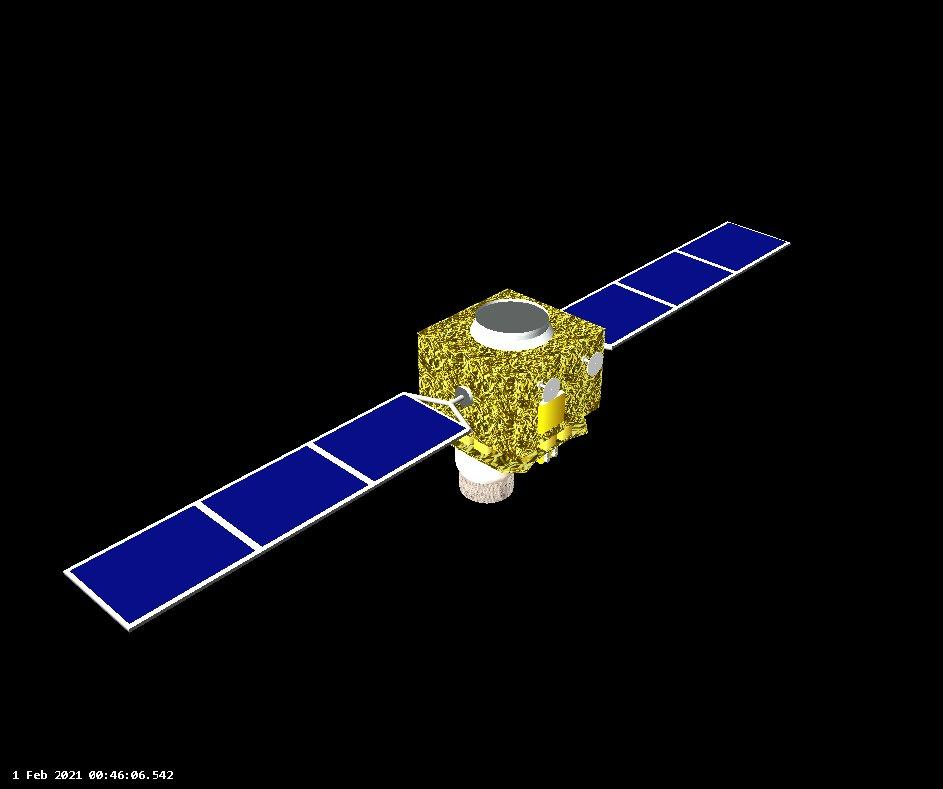antenna: (537, 372, 564, 403), (579, 347, 604, 378)
body: (412, 284, 606, 474)
solar: (58, 383, 473, 635), (554, 217, 792, 354)
